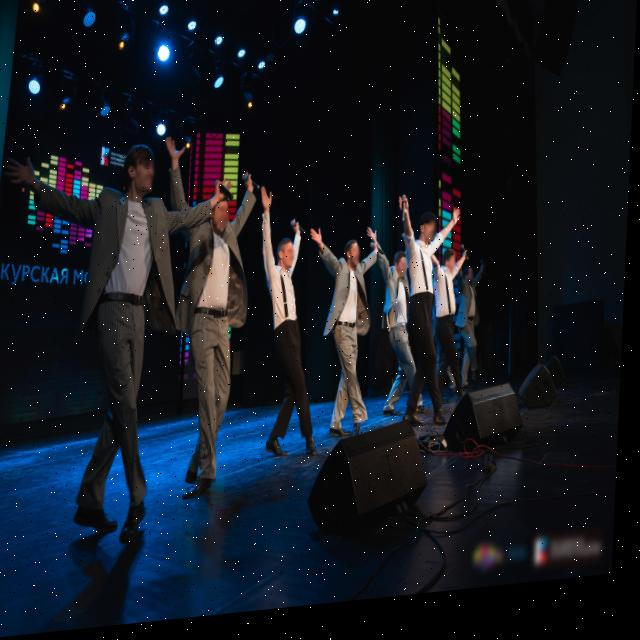Person: (35, 116, 181, 561), (171, 168, 265, 531), (319, 218, 382, 449), (263, 208, 315, 484), (401, 206, 452, 444), (381, 241, 426, 435), (434, 247, 473, 416), (458, 264, 492, 396)
